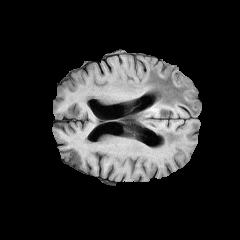glioma: (119, 68, 199, 145)
